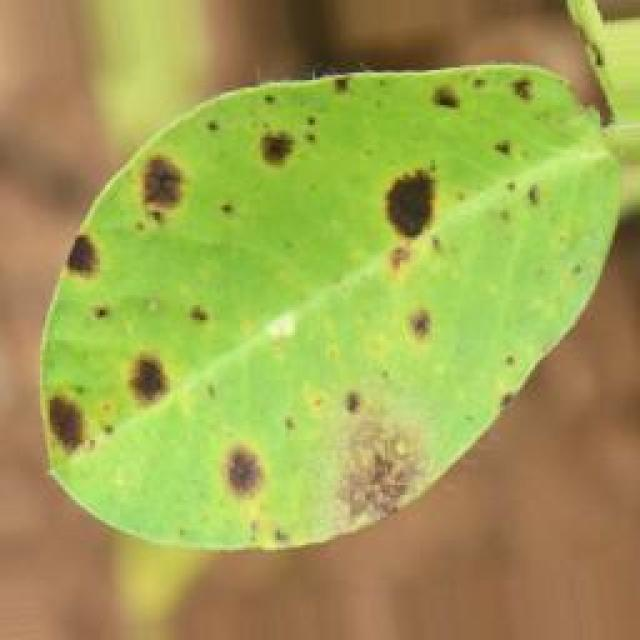Yellowish: (39, 76, 568, 534)
